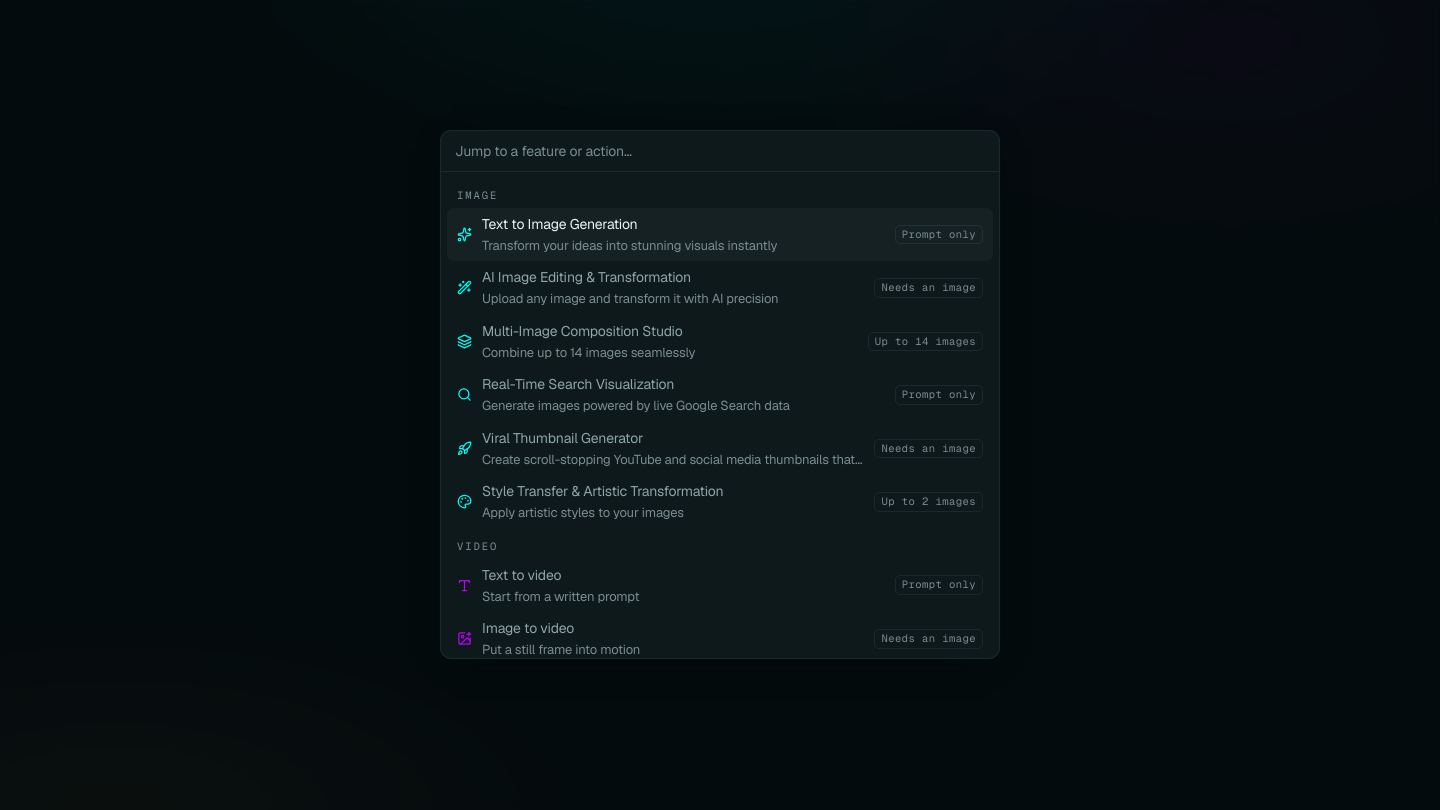
Test: CommandPalette › ranks a feature above the rest when the search is one of its aliases
Step 1. Type "anime" into the dropdown with placeholder "Jump to a feature or action…" → coordinates (720, 151), box [441,131,999,172]
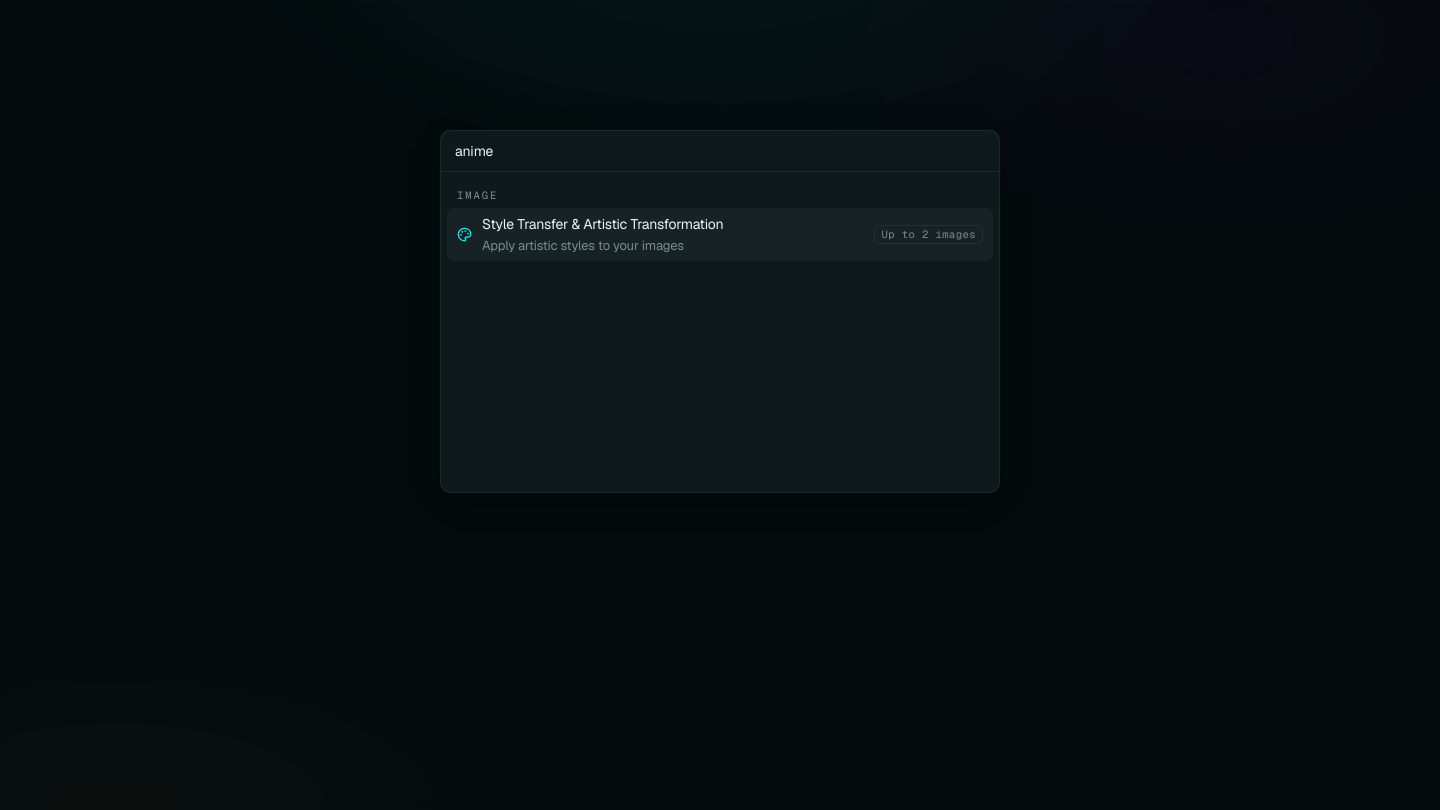
expect the text "Style Transfer & Artistic Transformation" is shown: met, box [482,215,724,233]
expect the option "Multi-Image Composition Studio" is gone: met
